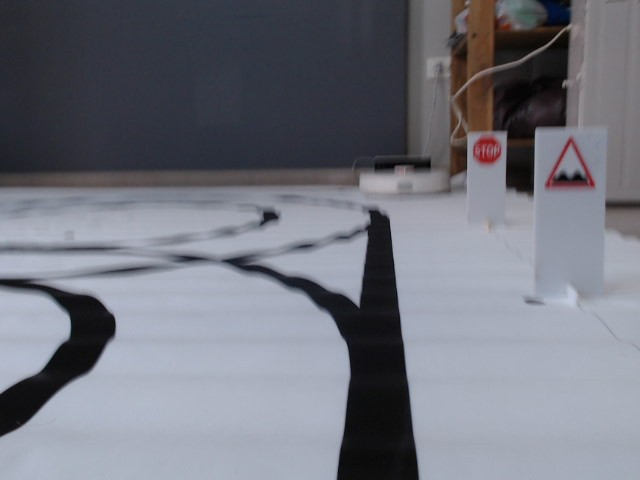Nerov: (545, 136, 595, 190)
Stop: (473, 136, 503, 165)
